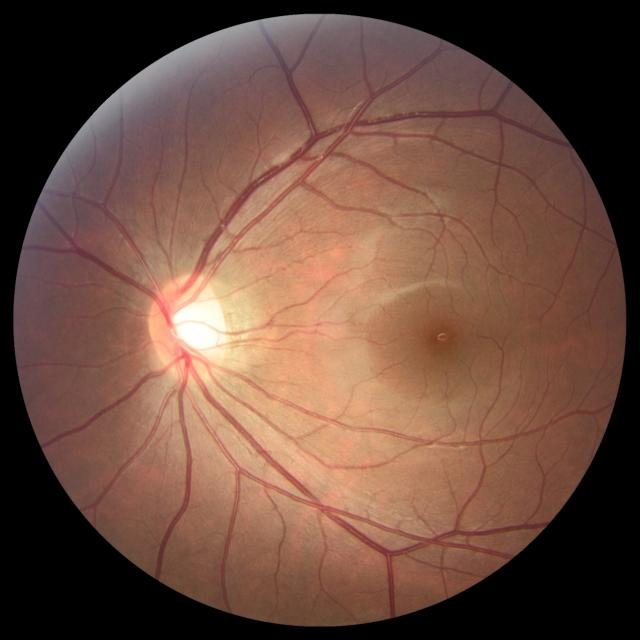OC: (168, 299, 216, 354)
OD: (149, 276, 228, 381)
